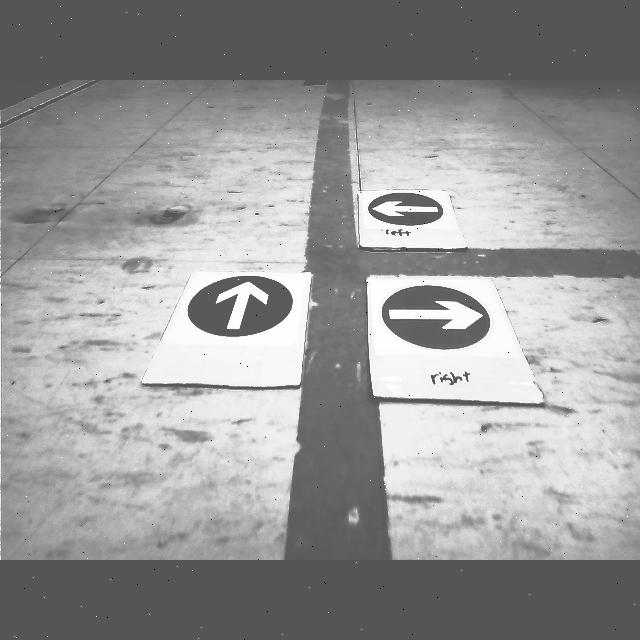GO FORWARD: (188, 275, 293, 336)
TURN LEFT: (370, 193, 443, 224)
TURN RIGHT: (381, 287, 492, 347)
